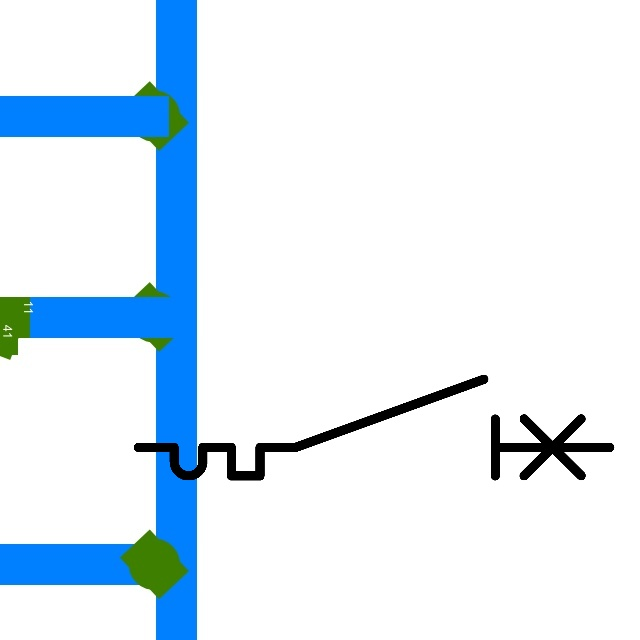interruptor_termomagnetico: (126, 367, 622, 488)
